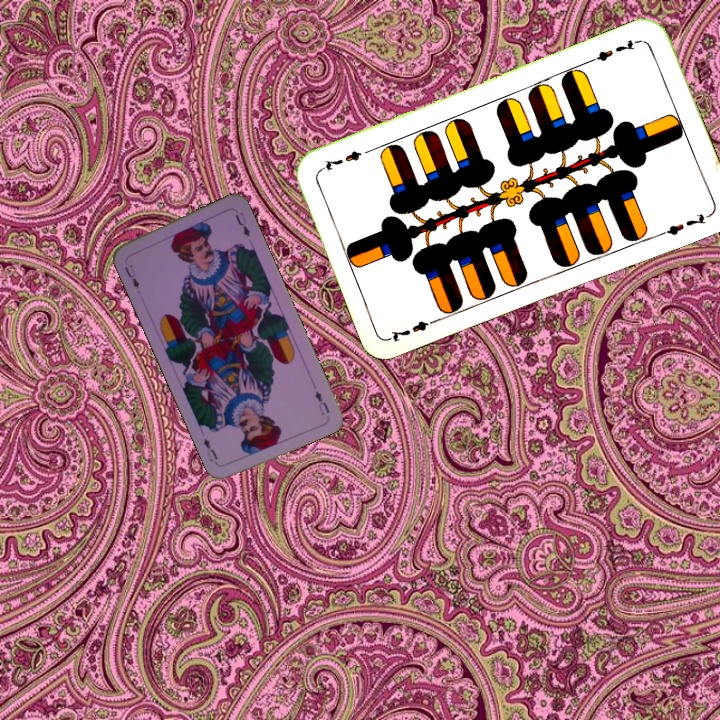E7: (386, 313, 443, 345), (587, 35, 643, 65)
EU: (120, 261, 142, 291), (311, 387, 332, 418)
